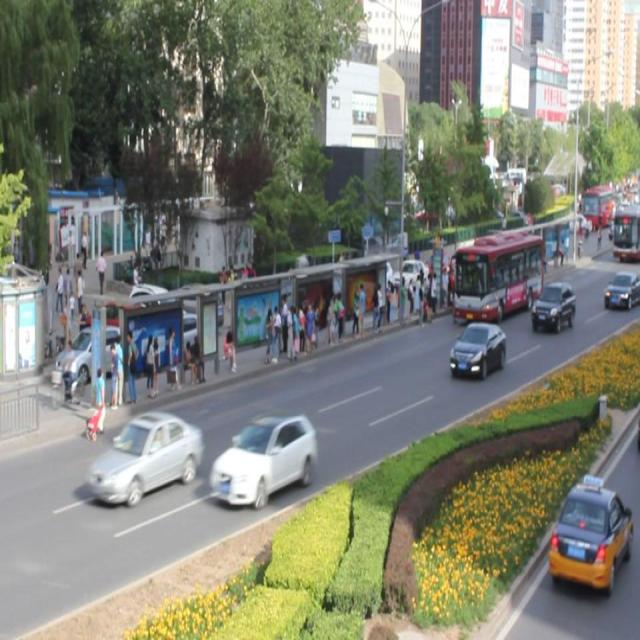car: (87, 407, 201, 503), (212, 409, 316, 502), (450, 319, 505, 377), (530, 282, 574, 330), (602, 272, 640, 309)
van: (447, 232, 538, 326)
